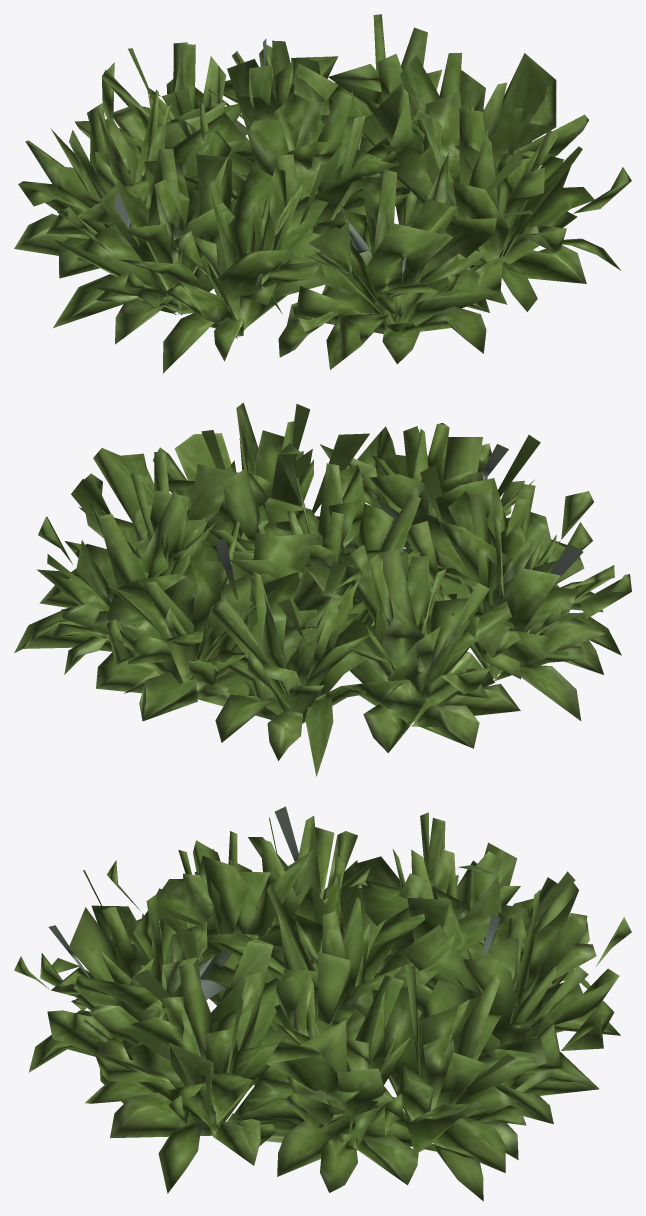
Rendered from herbNode.glb.
3 renders of one model, top to bottom at view 1: azimuth 30°, elevation 25°; view 2: azimuth 150°, elevation 25°; view 3: azimuth 270°, elevation 25°, orthographic. The views are drawn at different scales.
Size of the model in its own units: 0.9487 by 0.3028 by 0.9311.
Materials: 1 (1 with a texture image).
